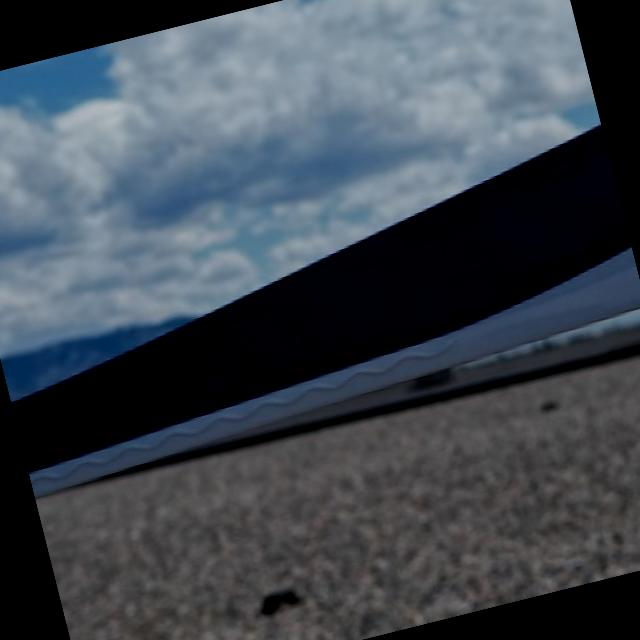healthy: (13, 125, 640, 494)
